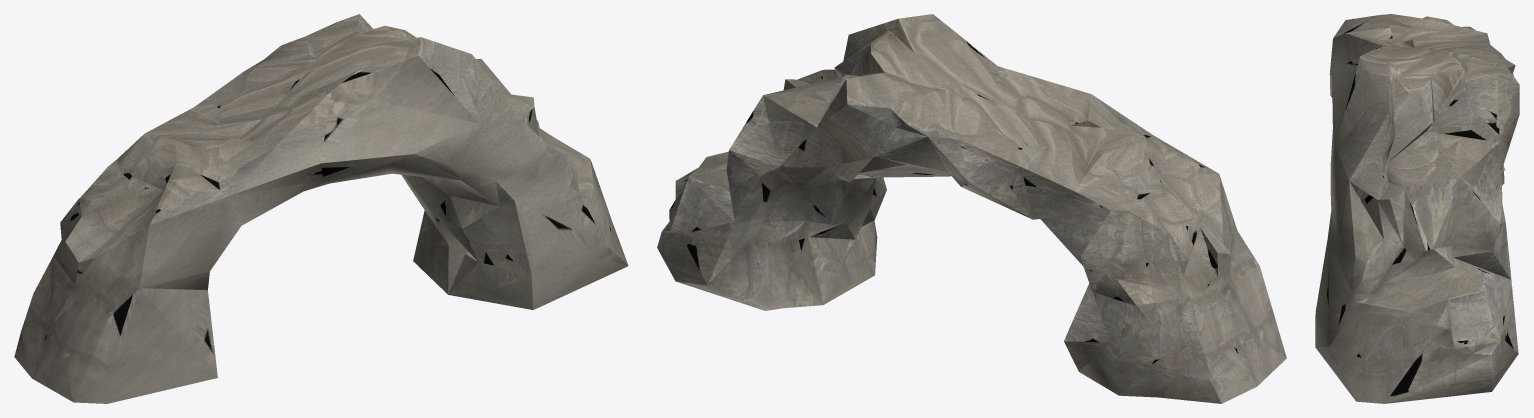
The model's file is co_sedimentary_arch_lod1.glb.
3 renders of one model, left to right at view 1: azimuth 30°, elevation 25°; view 2: azimuth 150°, elevation 25°; view 3: azimuth 270°, elevation 25°, orthographic. The views are drawn at different scales.
Parts seen in each view (by area): view 1: output_unwrapped; view 2: output_unwrapped; view 3: output_unwrapped.
Part boxes in pixels (<box>): output_unwrapped: <box>14,14,628,403</box>; output_unwrapped: <box>657,14,1286,403</box>; output_unwrapped: <box>1315,14,1519,403</box>.
Bounding box in the file's own units: 1.85 × 0.8192 × 0.6059.
Materials: 1 (1 with a texture image).
